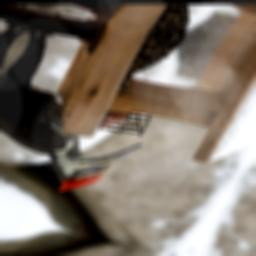Woodpecker: (0, 21, 193, 211)
